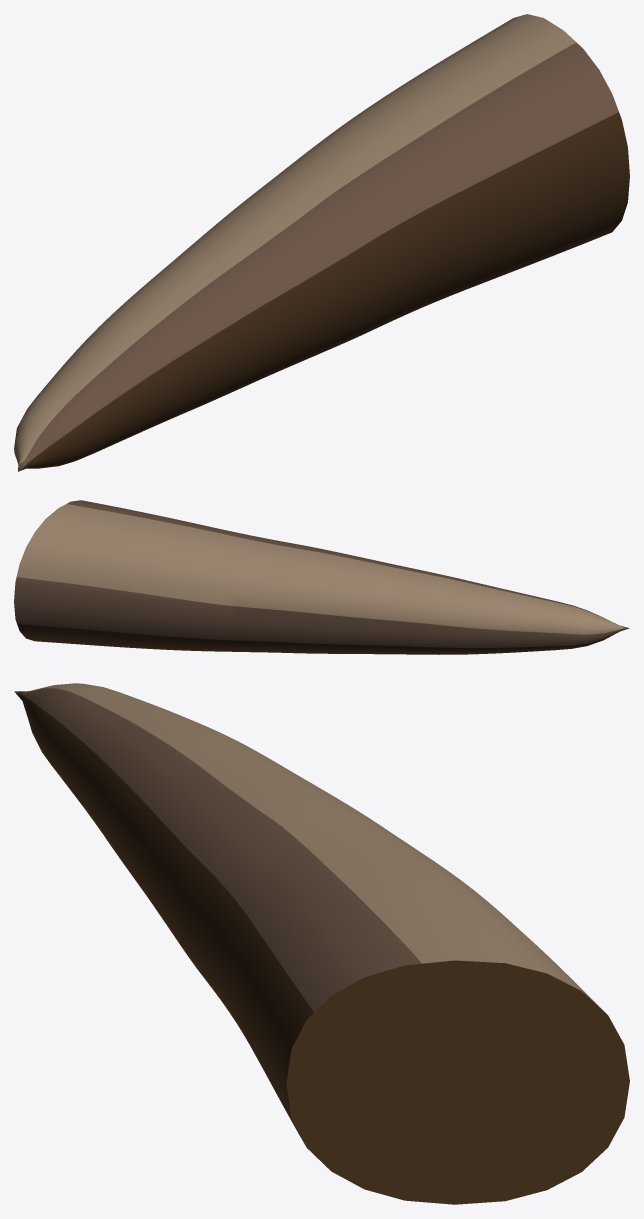
File: tusk_arm_b_231.glb
The picture shows the model from 3 angles, top to bottom: view 1: azimuth 30°, elevation 25°; view 2: azimuth 150°, elevation 25°; view 3: azimuth 270°, elevation 25°; orthographic projection. The views are drawn at different scales.
Parts seen in each view (by area): view 1: tusk_arm_b_231; view 2: tusk_arm_b_231; view 3: tusk_arm_b_231.
Part boxes in pixels (<box>): tusk_arm_b_231: <box>14,14,629,471</box>; tusk_arm_b_231: <box>14,500,629,654</box>; tusk_arm_b_231: <box>14,683,629,1204</box>.
Size of the model in its own units: 22.29 by 5.7 by 13.03.
